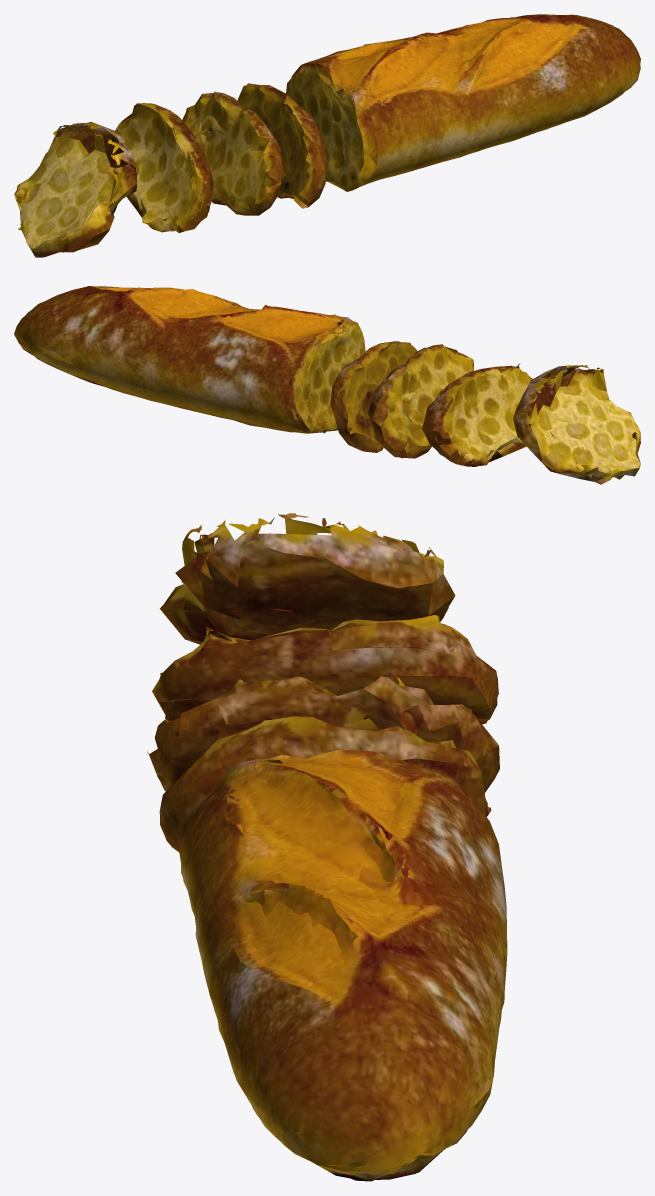
The model's file is bread.glb.
The picture shows the model from 3 angles, top to bottom: view 1: azimuth 30°, elevation 25°; view 2: azimuth 150°, elevation 25°; view 3: azimuth 270°, elevation 25°; orthographic projection. The views are drawn at different scales.
Parts seen in each view (by area): view 1: Sliced Baguette Loaf (quads); view 2: Sliced Baguette Loaf (quads); view 3: Sliced Baguette Loaf (quads).
Part boxes in pixels (left/top/right/bottom): Sliced Baguette Loaf (quads): left=14, top=14, right=640, bottom=257; Sliced Baguette Loaf (quads): left=14, top=286, right=640, bottom=484; Sliced Baguette Loaf (quads): left=147, top=513, right=507, bottom=1181.
Bounding box in the file's own units: 0.5795 × 0.0999 × 0.1529.
1 material, 1 textured.
